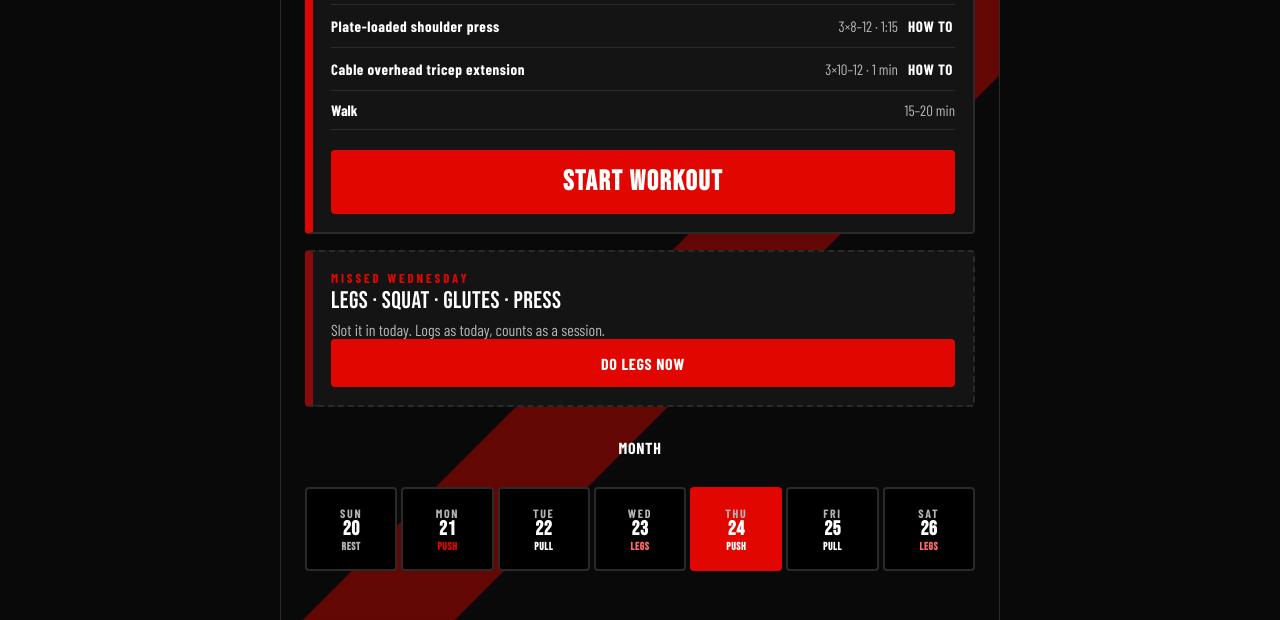
Test: Gym Log app › shows session HUD last/next and Same marks a set
(page scrolled)
Click the button with class "week-day" showing "Mon 21 PUSH". click: coordinates (447, 529)
box: x1=401 y1=487 x2=494 y2=571
(page scrolled)
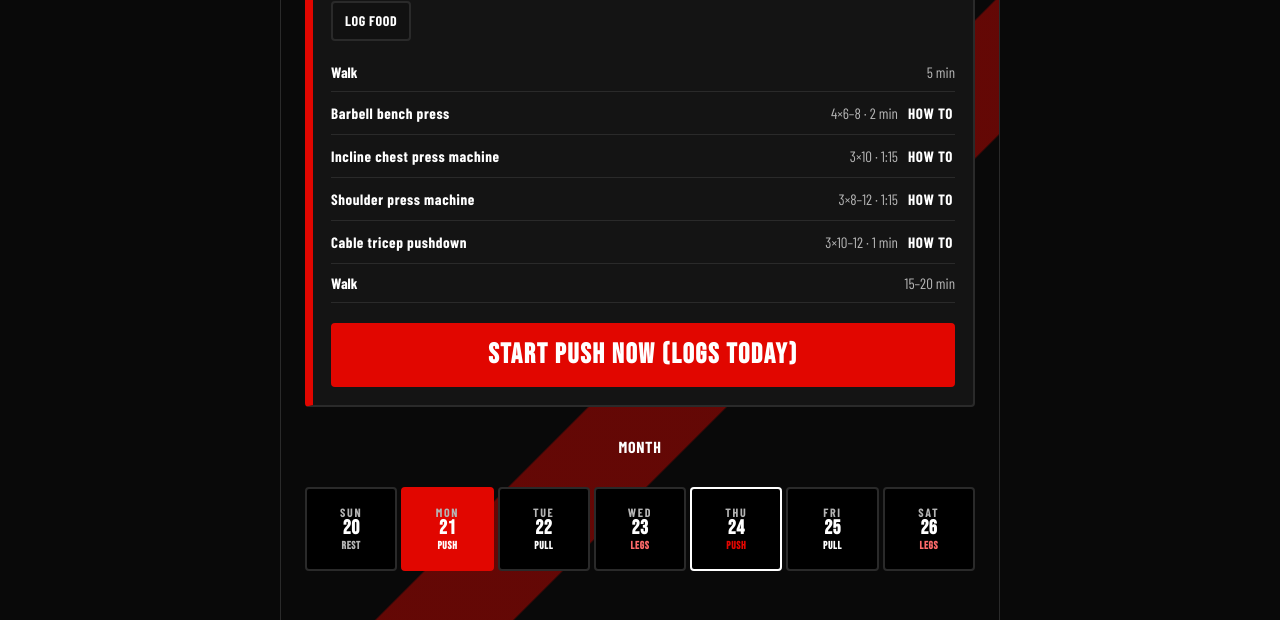
Check: the text "push" is shown, box x1=331 y1=231 x2=467 y2=253
Click the button "Start Push now (logs today)". click: coordinates (643, 355)
box: x1=331 y1=323 x2=955 y2=387
(page scrolled)
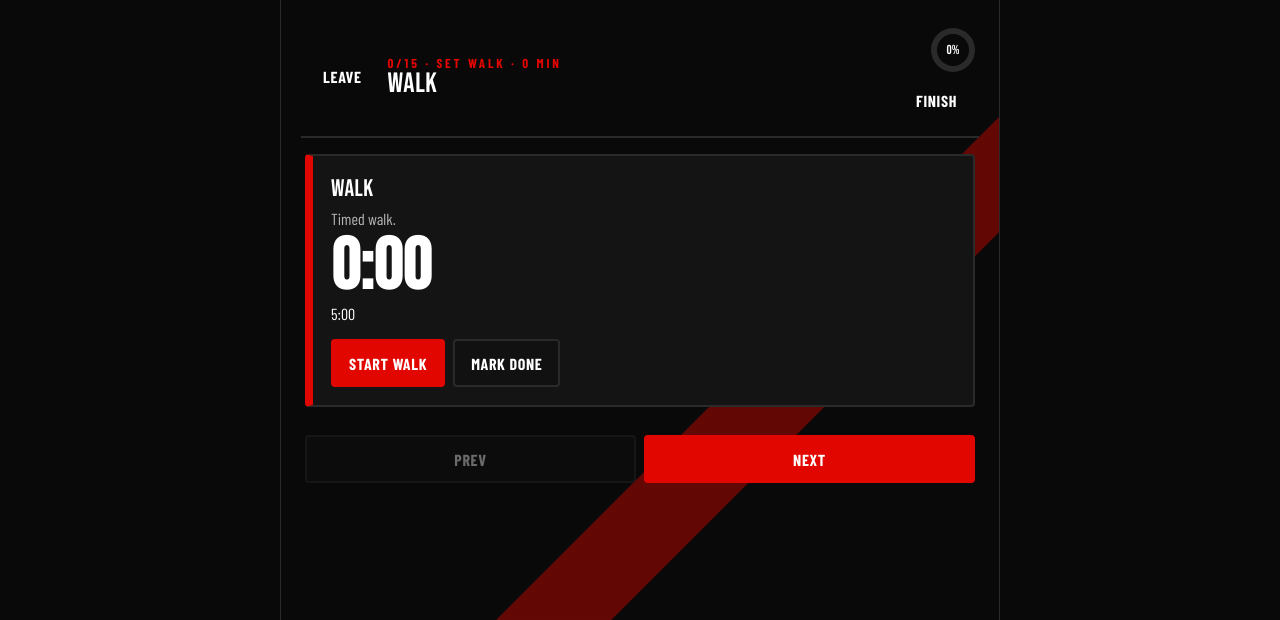
Check: the text "Leave" is shown, box x1=305 y1=52 x2=380 y2=100
Click the button "Next". click: coordinates (810, 459)
box: x1=644 y1=435 x2=975 y2=483
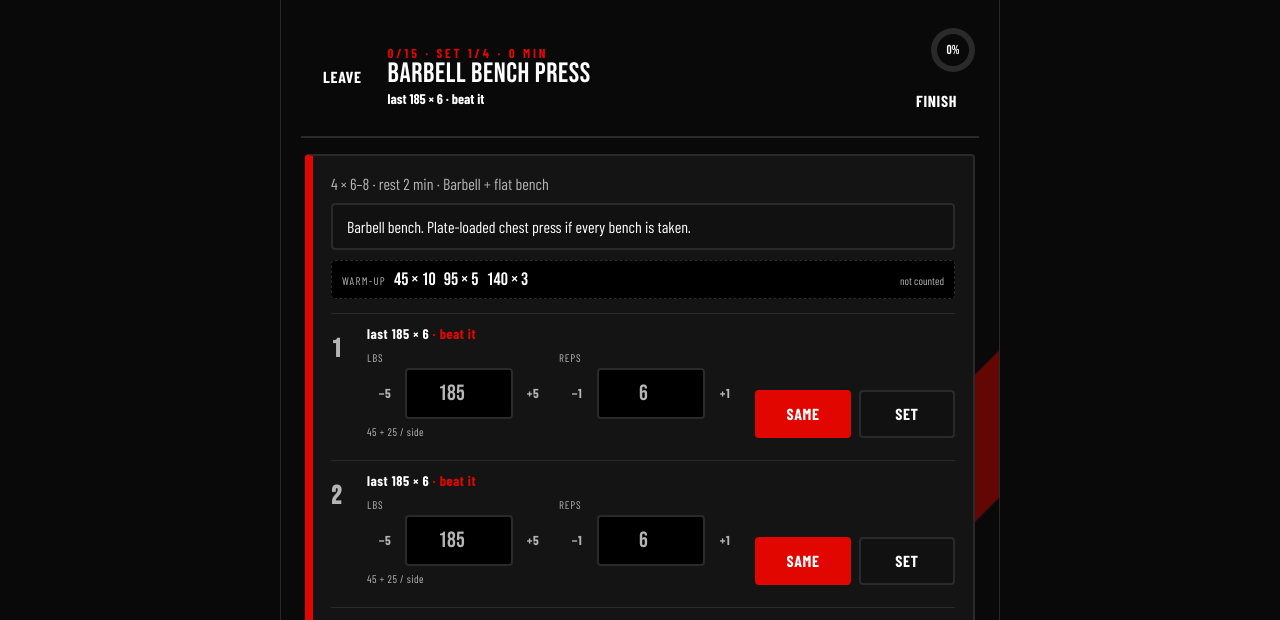
Check: the text "last 185 × 6 · beat it" is shown, box x1=388 y1=90 x2=484 y2=107
Check: the 1st number field named "lbs" holds "185", box x1=405 y1=368 x2=513 y2=419
Click the 1st button "Same". click: coordinates (803, 414)
box: x1=755 y1=390 x2=851 y2=438
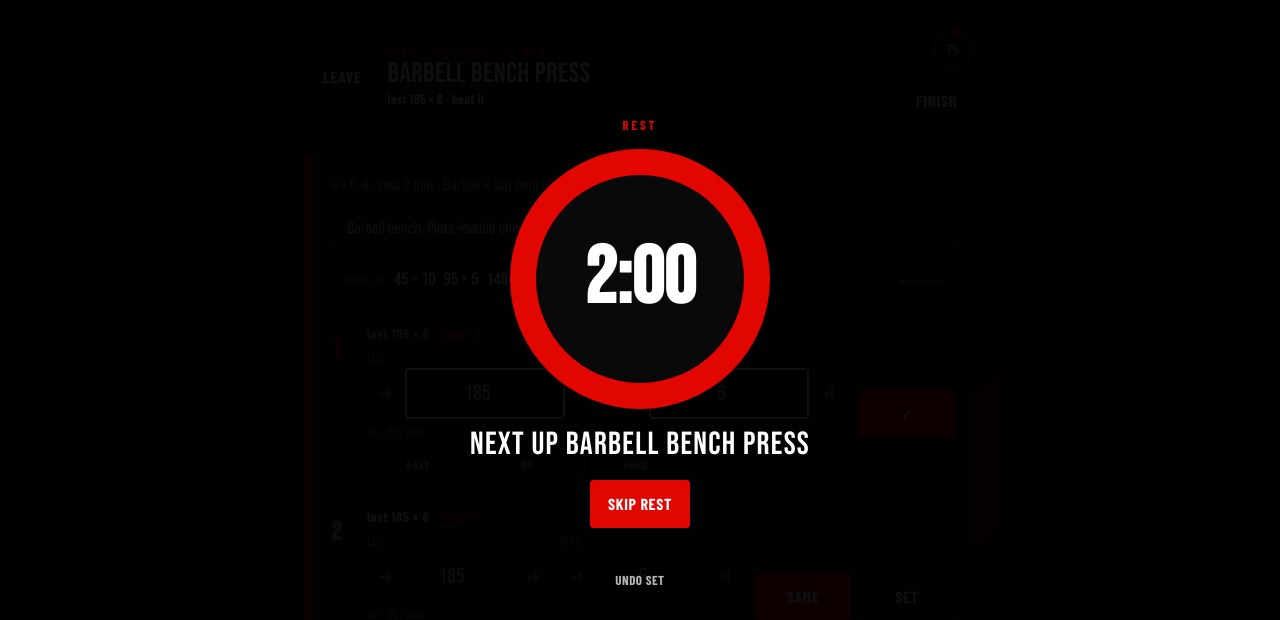
Check: the text "Next up Barbell bench press" is shown, box x1=450 y1=424 x2=830 y2=464
Click the button "Skip rest". click: coordinates (640, 504)
box: x1=590 y1=480 x2=690 y2=528
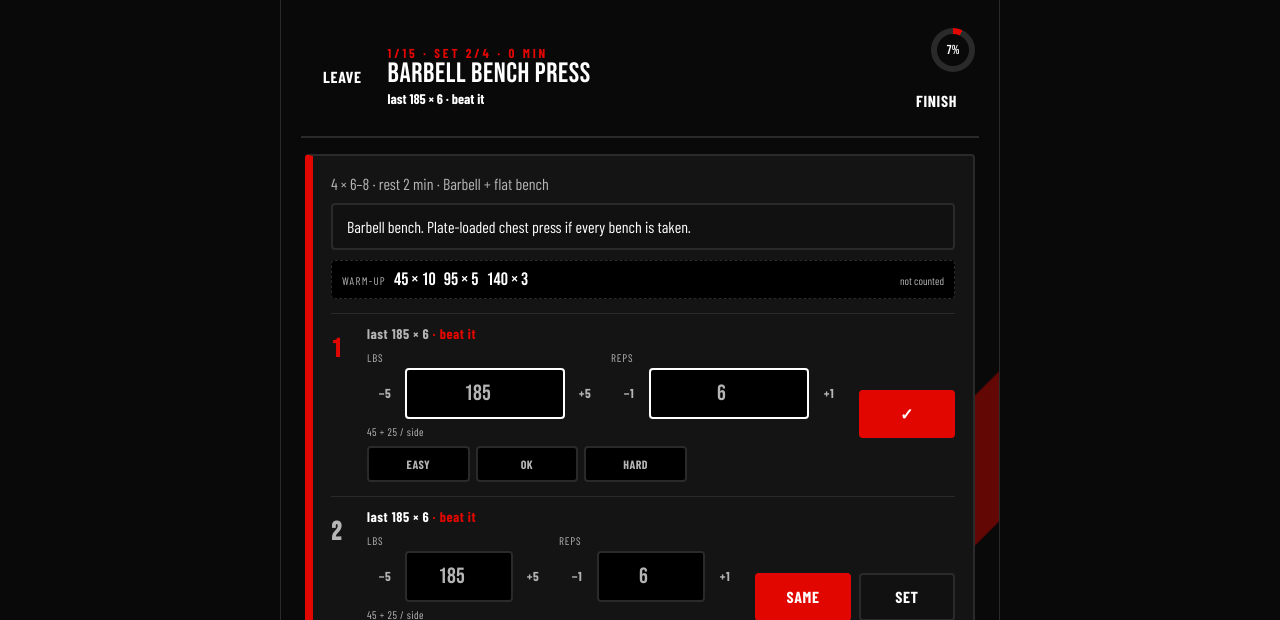
Check: the text "Skip rest" is gone
